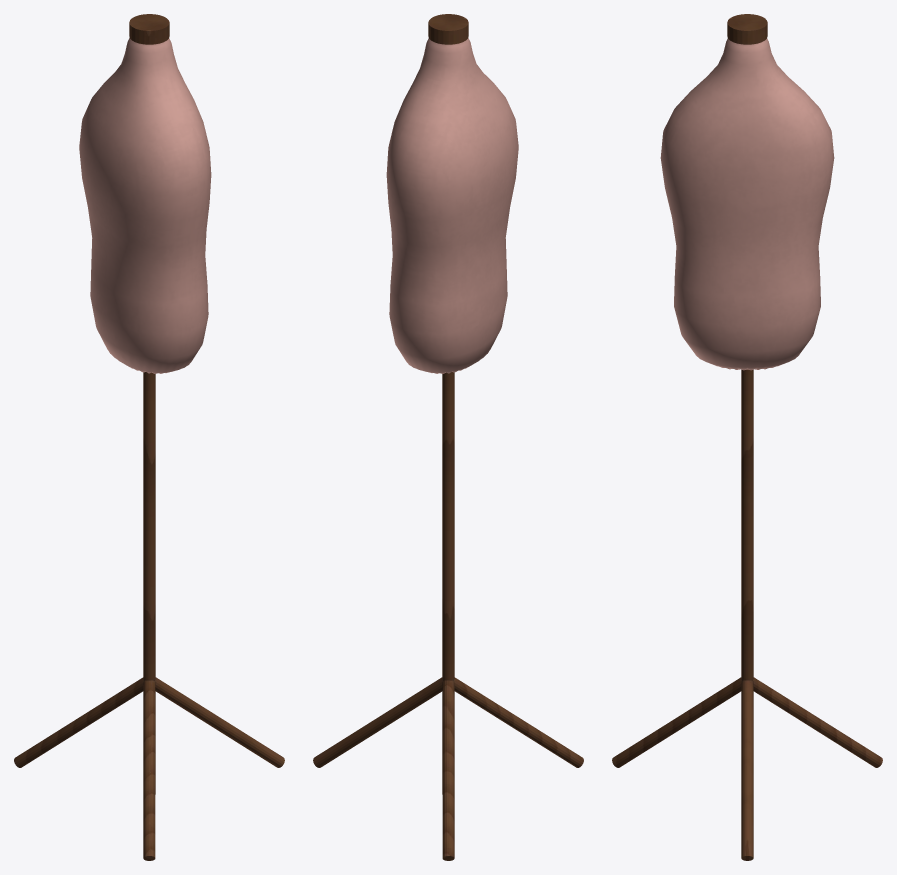
Rendered from floral-tape.glb.
The picture shows the model from 3 angles, left to right: view 1: azimuth 30°, elevation 25°; view 2: azimuth 150°, elevation 25°; view 3: azimuth 270°, elevation 25°; orthographic projection.
Parts seen in each view (by area): view 1: fabric_primary_form, wood_z; view 2: fabric_primary_form, wood_z; view 3: fabric_primary_form, wood_z.
Part boxes in pixels (left/top/right/bottom): fabric_primary_form: left=79, top=38, right=211, bottom=373; wood_z: left=14, top=14, right=284, bottom=860; fabric_primary_form: left=386, top=38, right=518, bottom=373; wood_z: left=313, top=14, right=583, bottom=860; fabric_primary_form: left=660, top=38, right=834, bottom=370; wood_z: left=612, top=14, right=882, bottom=860.
Bounding box in the file's own units: 0.4687 × 1.7 × 0.5375.
Materials: 2 (2 with a texture image).
